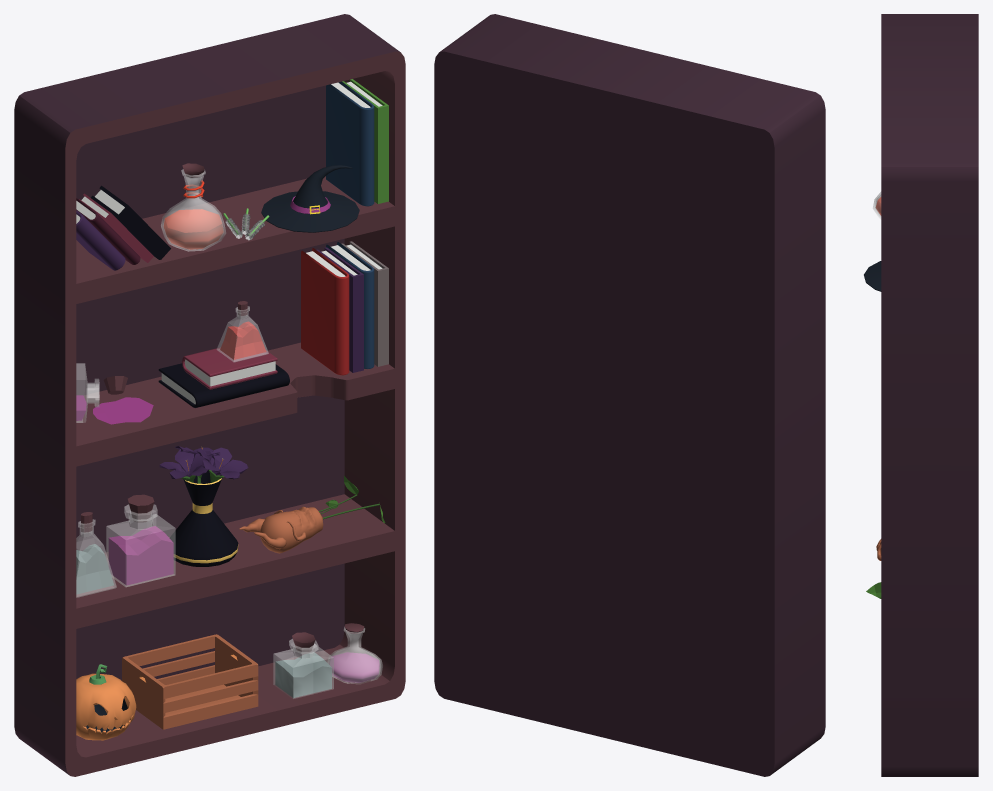
The model's file is ArmarioDecorado.fbx.
The picture shows the model from 3 angles, left to right: view 1: azimuth 30°, elevation 25°; view 2: azimuth 150°, elevation 25°; view 3: azimuth 270°, elevation 25°; orthographic projection. The views are drawn at different scales.
Visible parts, largest first — view 1: Estante.001, Cube, HibiscoRoxo, Cylinder.007, Cylinder.005, PoçaoQuadrada.004, Circle.010, Vert.002, PoçãoRedonda.002, PoçaoQuadrada.001, Cylinder.011, Cylinder.009 (+14 smaller); view 2: Estante.001; view 3: Estante.001, Circle.010, Cylinder.011.
Part boxes in pixels (left/top/right/bottom): Estante.001: left=14, top=14, right=405, bottom=776; Cube: left=122, top=634, right=258, bottom=729; HibiscoRoxo: left=159, top=446, right=248, bottom=566; Cylinder.007: left=301, top=248, right=349, bottom=375; Cylinder.005: left=326, top=81, right=374, bottom=206; PoçaoQuadrada.004: left=106, top=494, right=175, bottom=587; Circle.010: left=261, top=165, right=359, bottom=232; Vert.002: left=76, top=664, right=136, bottom=740; PoçãoRedonda.002: left=161, top=163, right=225, bottom=251; PoçaoQuadrada.001: left=273, top=632, right=333, bottom=698; Cylinder.011: left=239, top=475, right=385, bottom=553; Cylinder.009: left=182, top=347, right=277, bottom=389; Estante.001: left=434, top=14, right=825, bottom=776; Estante.001: left=881, top=14, right=978, bottom=776; Circle.010: left=864, top=261, right=881, bottom=291; Cylinder.011: left=866, top=539, right=881, bottom=598.
Size of the model in its own units: 1.32 by 2.4 by 0.4394.
